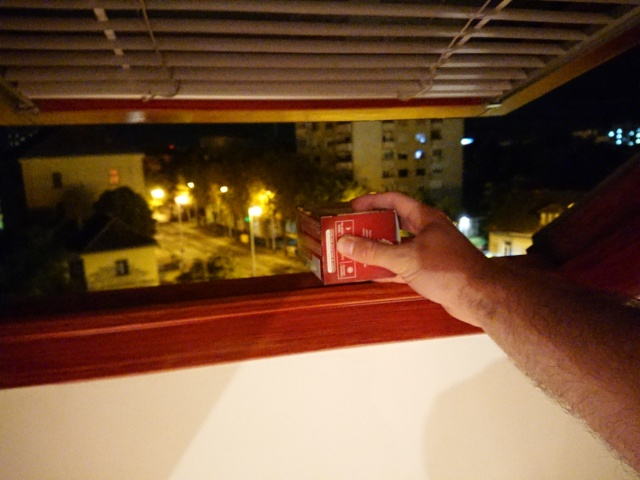Franck Apple Cinnamon Tea 60g: (292, 199, 405, 288)
